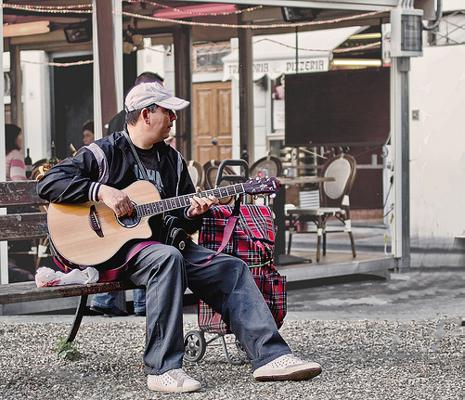person: (38, 82, 321, 392)
